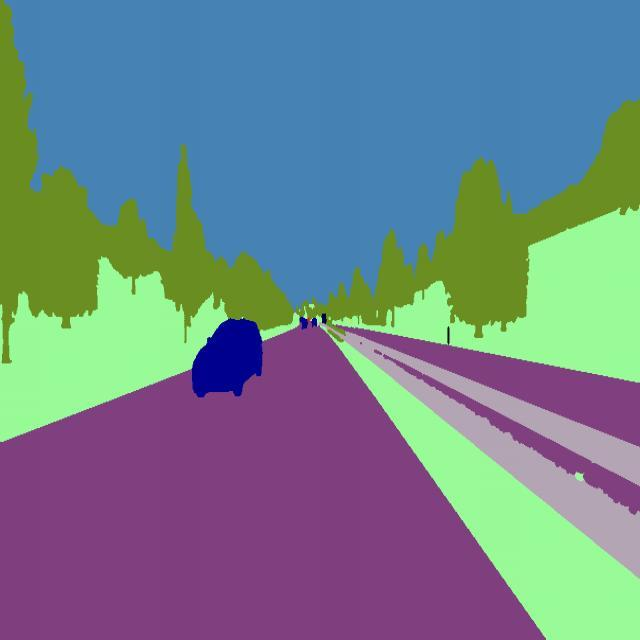safe: (191, 310, 264, 400)
